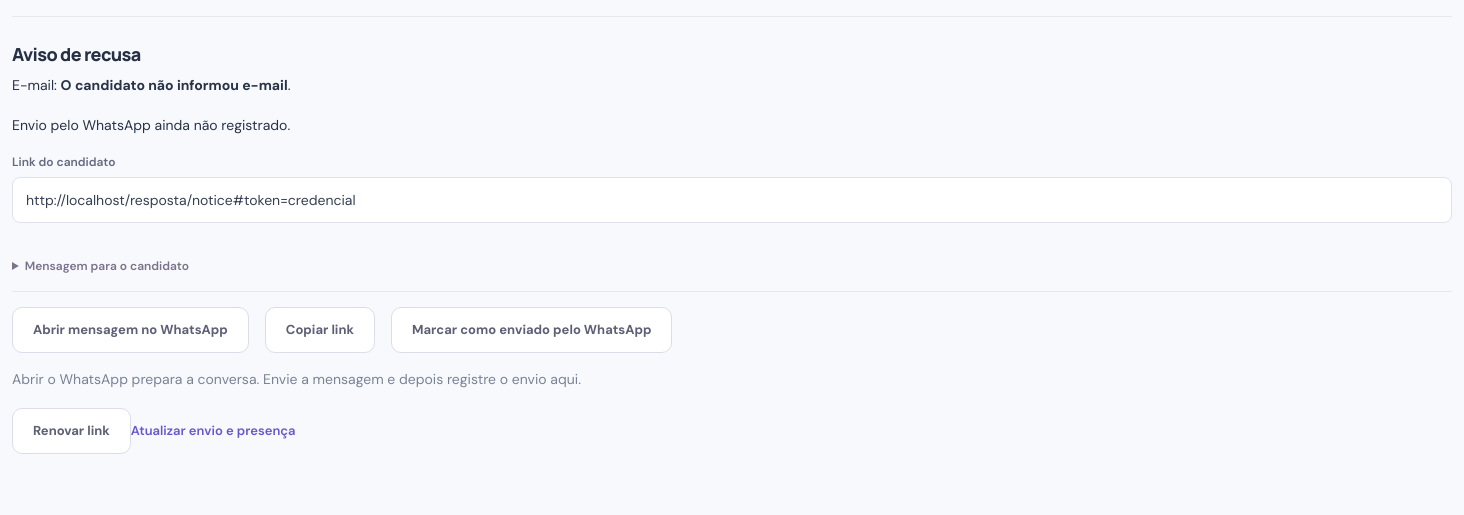
it: Aviso ao candidato › recusa mostra a mensagem desejada sem pedir confirmação de presença
Expected: the heading "Aviso de recusa" is shown, [12,42,141,66]
Click the heading "Mensagem para o candidato" at coordinates (107, 266), box [25,258,189,274]
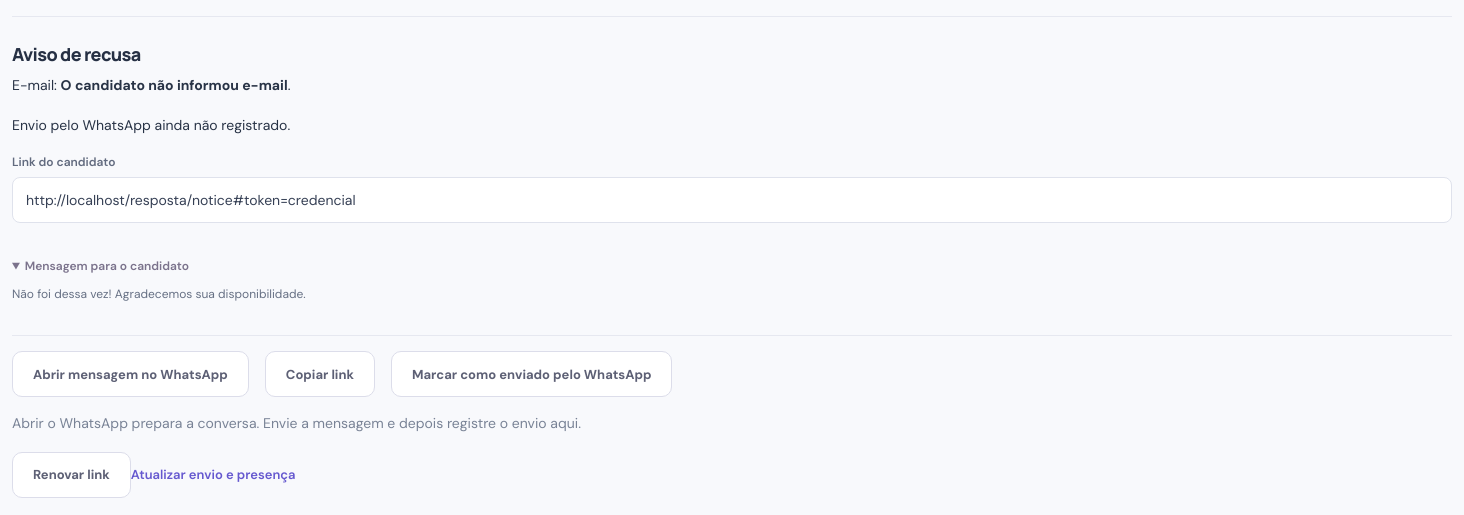
Now the text "Não foi dessa vez! Agradecemos sua disponibilidade." is shown, box [12,286,306,302]
